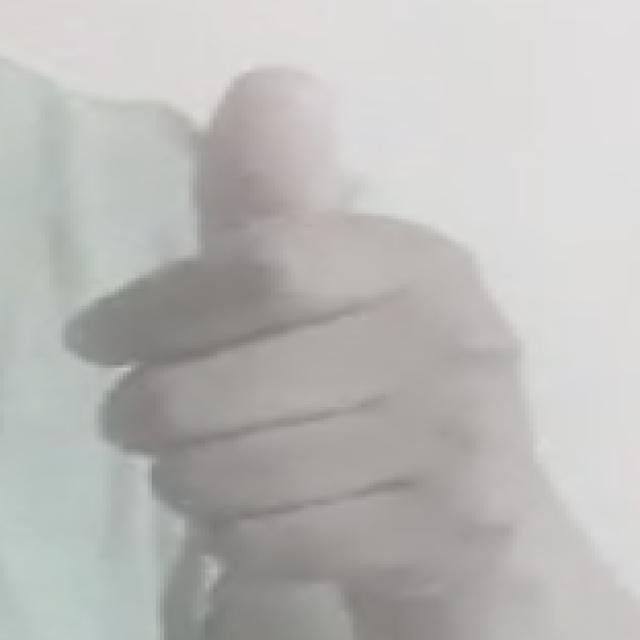Q: (56, 58, 562, 598)
